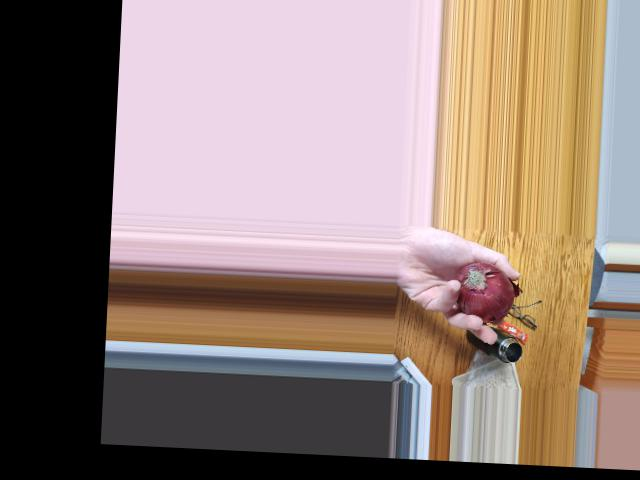onion: (446, 260, 515, 322)
